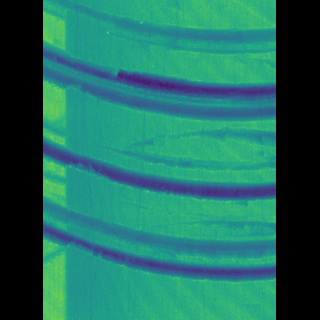Loch: (73, 192, 244, 284), (74, 35, 244, 124), (73, 133, 244, 205), (75, 0, 245, 57), (122, 124, 245, 173)
